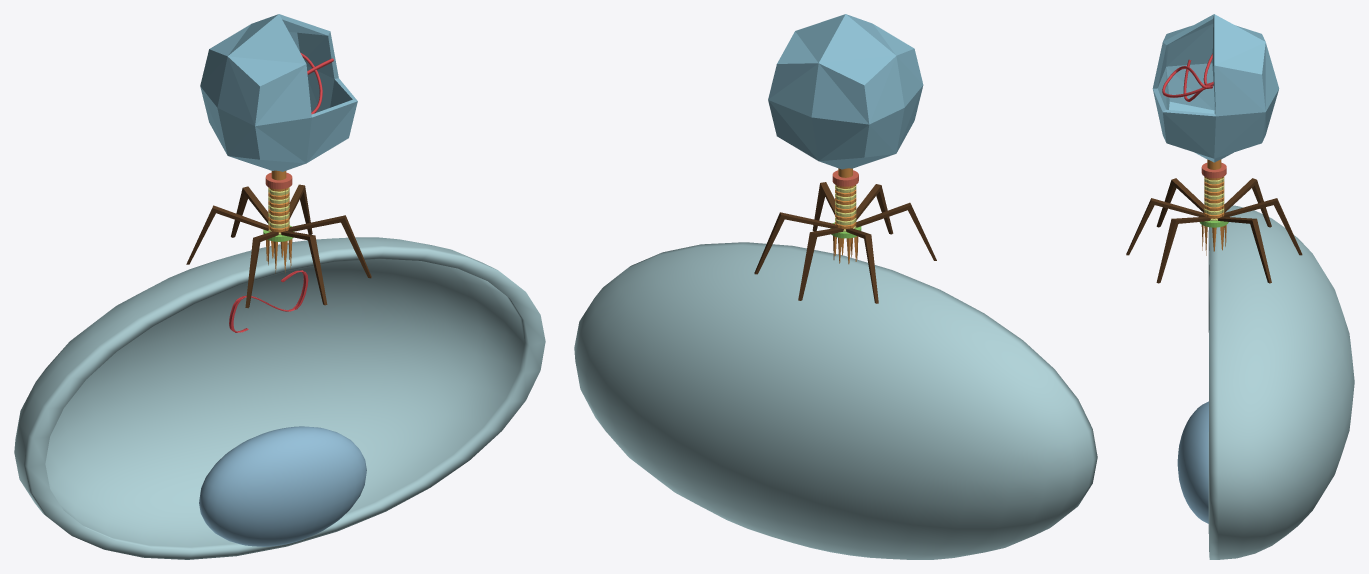
File: LISOGENIK.fbx
3 views of the same model, side by side, from view 1: azimuth 30°, elevation 25°; view 2: azimuth 150°, elevation 25°; view 3: azimuth 270°, elevation 25° (orthographic). The views are drawn at different scales.
Parts seen in each view (by area): view 1: Sphere, KAPSID, Sphere.001; view 2: Sphere, KAPSID; view 3: Sphere, KAPSID, Sphere.001.
Part boxes in pixels (x1,y1,x2,y2): Sphere: (14, 237, 545, 559); KAPSID: (186, 14, 371, 308); Sphere.001: (199, 426, 366, 546); Sphere: (574, 242, 1097, 559); KAPSID: (754, 14, 936, 303); Sphere: (1208, 205, 1354, 559); KAPSID: (1126, 14, 1302, 283); Sphere.001: (1177, 401, 1208, 523).
Size of the model in its own units: 1088 by 1069 by 444.
